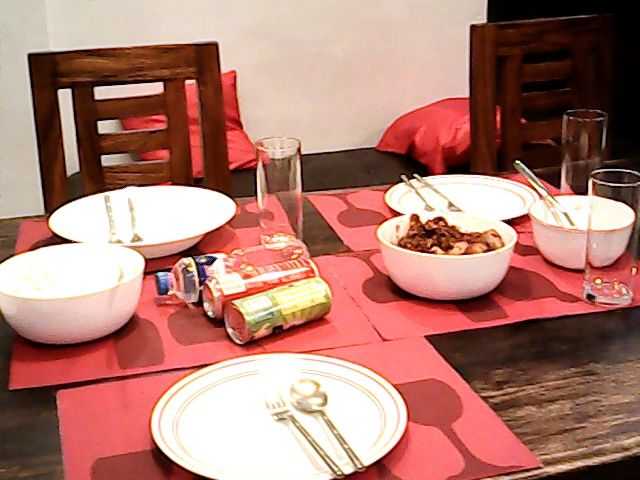Cola: (200, 263, 300, 292)
Pine Juice: (227, 286, 338, 342)
Summit Water: (144, 247, 229, 287)
